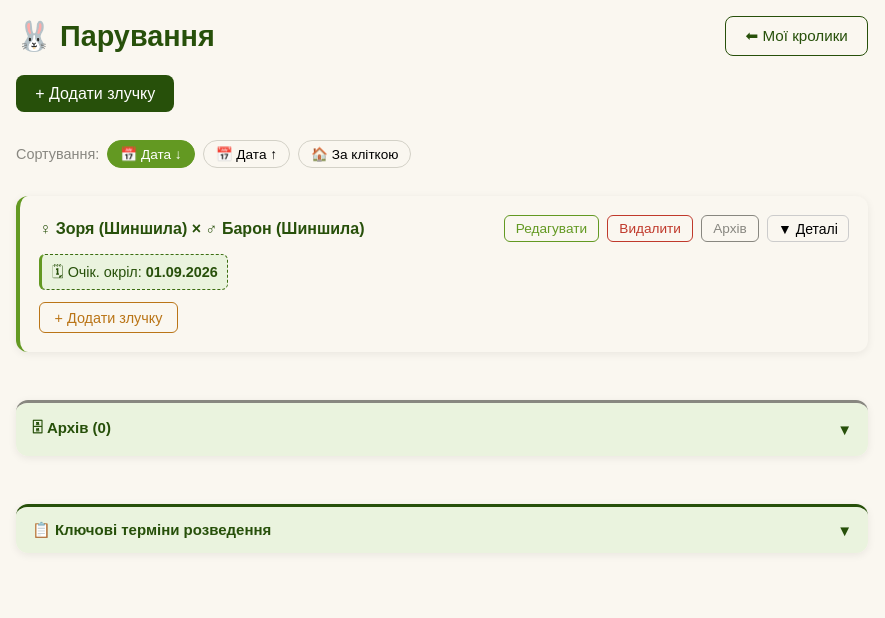
Matings: дії › архівування злучки: помилка показується
Click the button "Архів" at (730, 229), box x1=701 y1=215 x2=759 y2=242
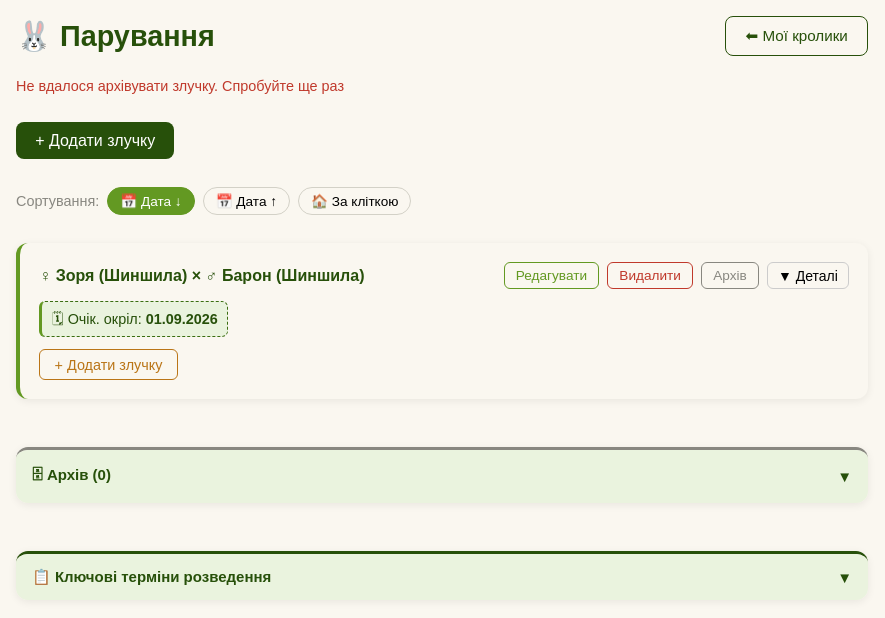
Check: the text "Не вдалося архівувати злучку. Спробуйте ще раз" is shown, box x1=16 y1=78 x2=344 y2=94
